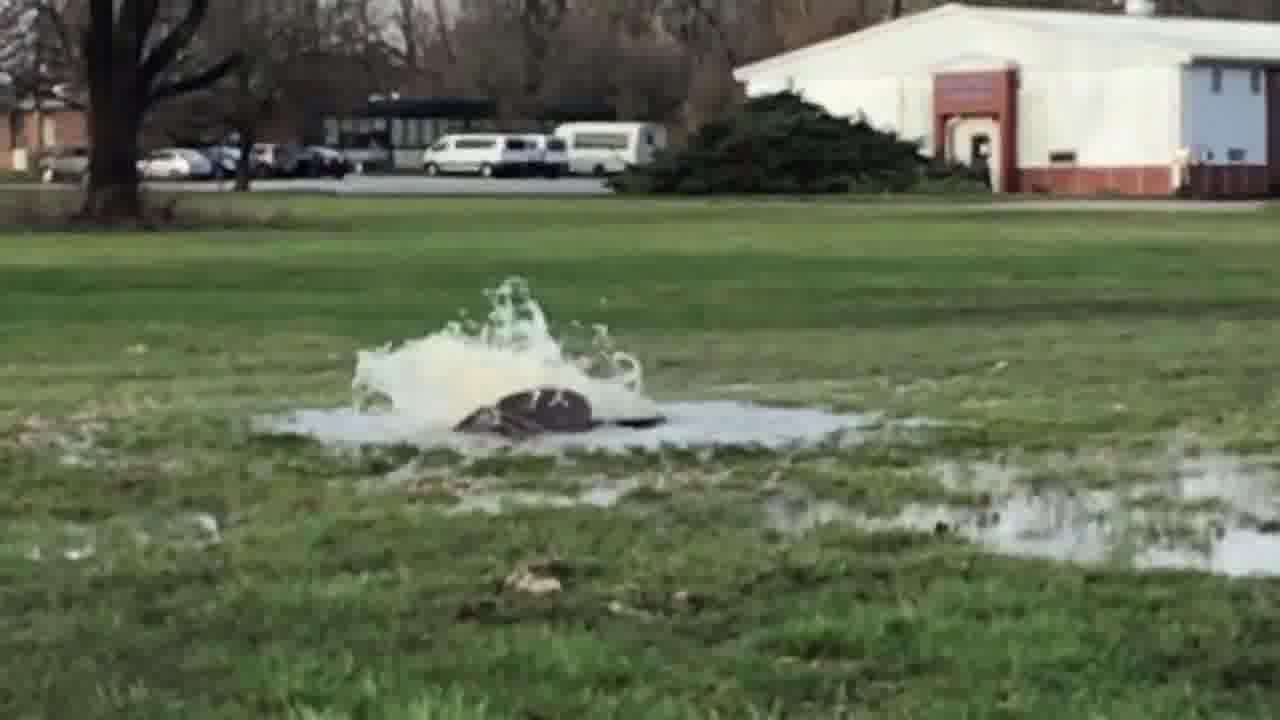drainage overflow-repair-: (295, 269, 663, 443)
